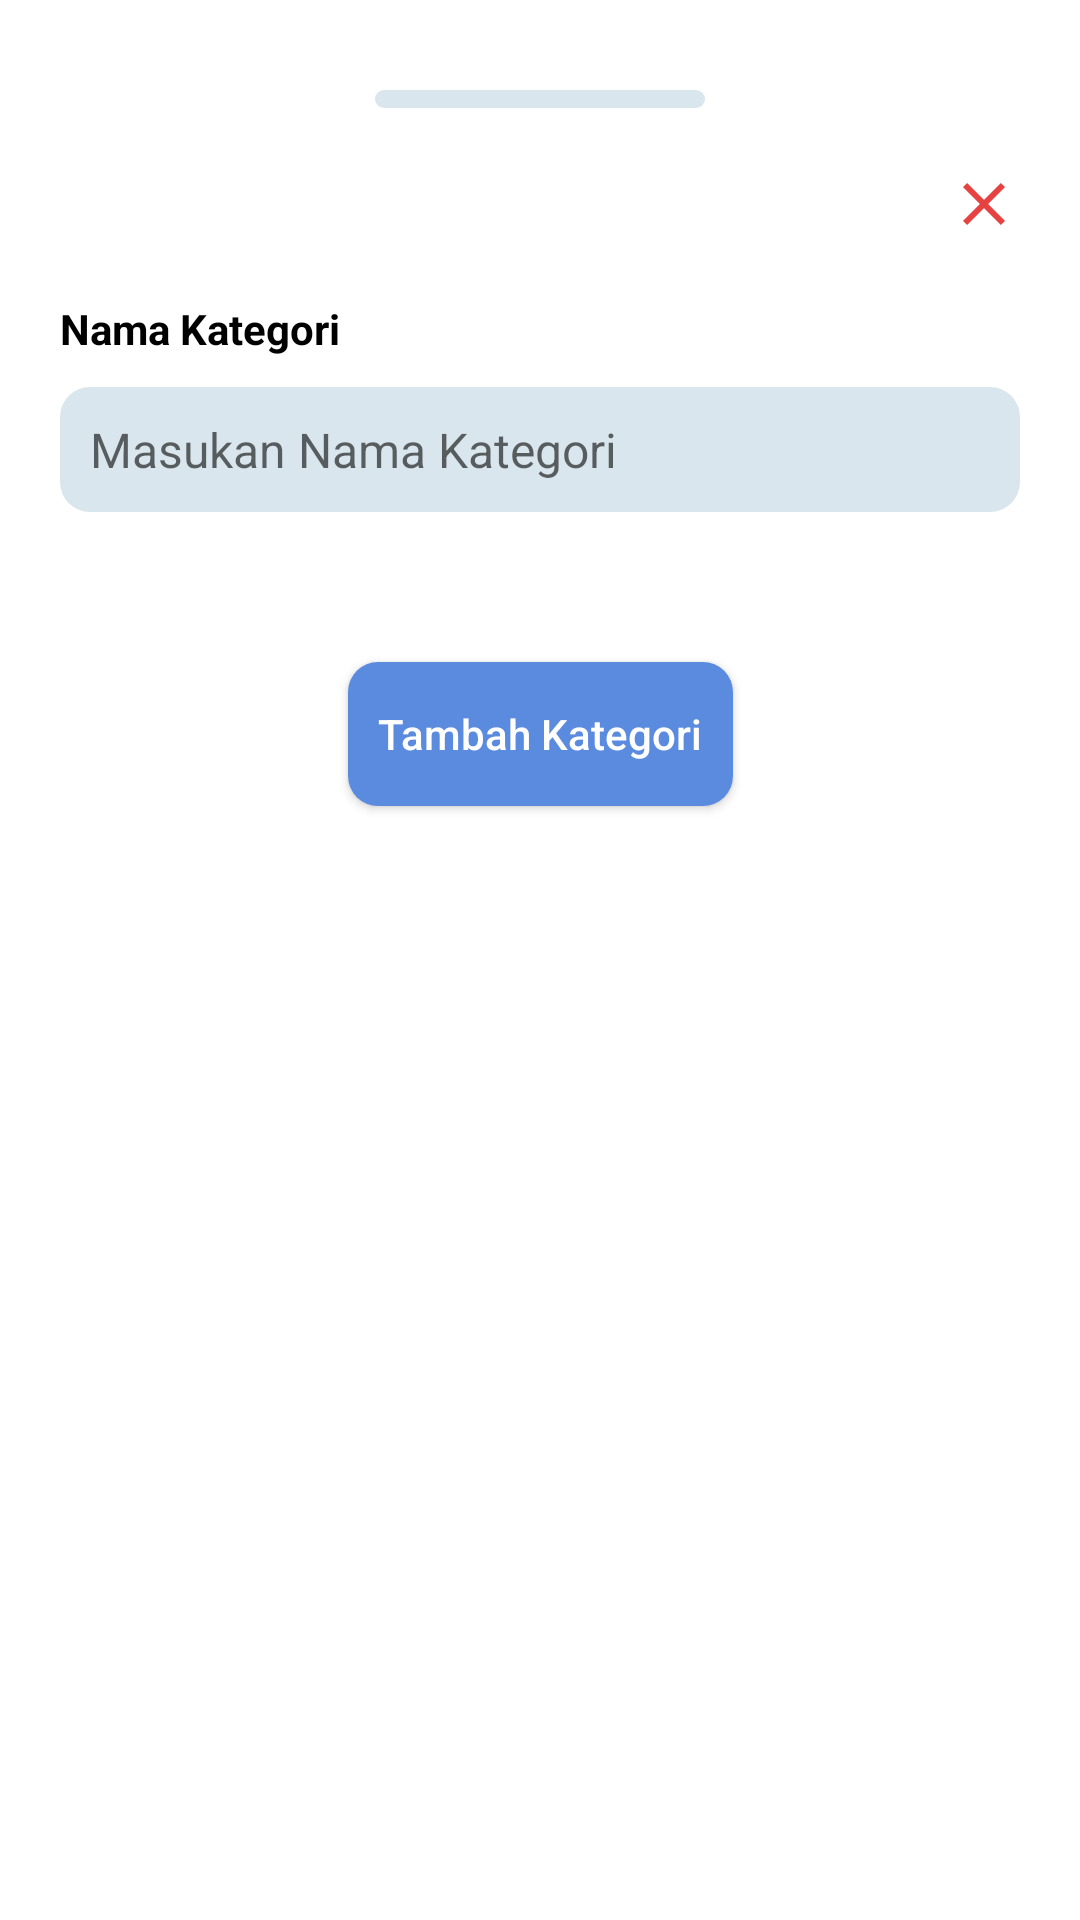

Screen size 1080px x 1920px. Icon name, then its box in pixels as bbox(x1, y1, x2, y2):
close: bbox(963, 183, 1005, 225)
